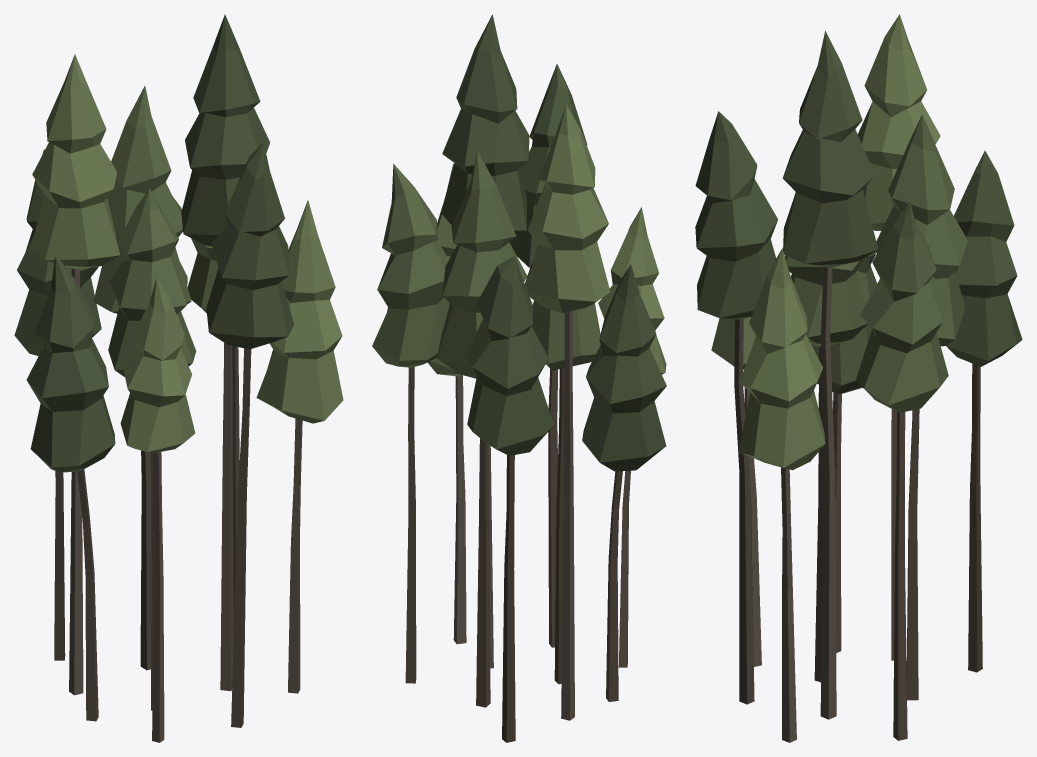
The model's file is env_pines.gltf.
3 views of the same model, side by side, from view 1: azimuth 30°, elevation 25°; view 2: azimuth 150°, elevation 25°; view 3: azimuth 270°, elevation 25° (orthographic). The views are drawn at different scales.
Visible parts, largest first — view 1: env_pines; view 2: env_pines; view 3: env_pines.
Part boxes in pixels (box(x1,y1,x2,y2)): env_pines: box(14, 14, 343, 742); env_pines: box(372, 14, 666, 742); env_pines: box(695, 14, 1022, 742).
Size of the model in its own units: 9.91 by 23.19 by 10.06.
1 material, 1 textured.
